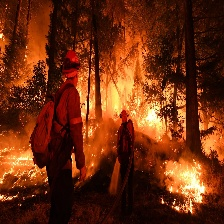fire: (159, 156, 211, 215), (2, 138, 42, 203), (135, 108, 170, 129), (82, 95, 100, 122), (80, 124, 93, 146)
